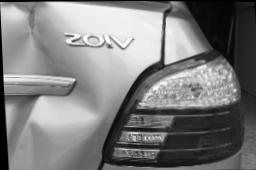Dickey: (0, 2, 134, 170)
